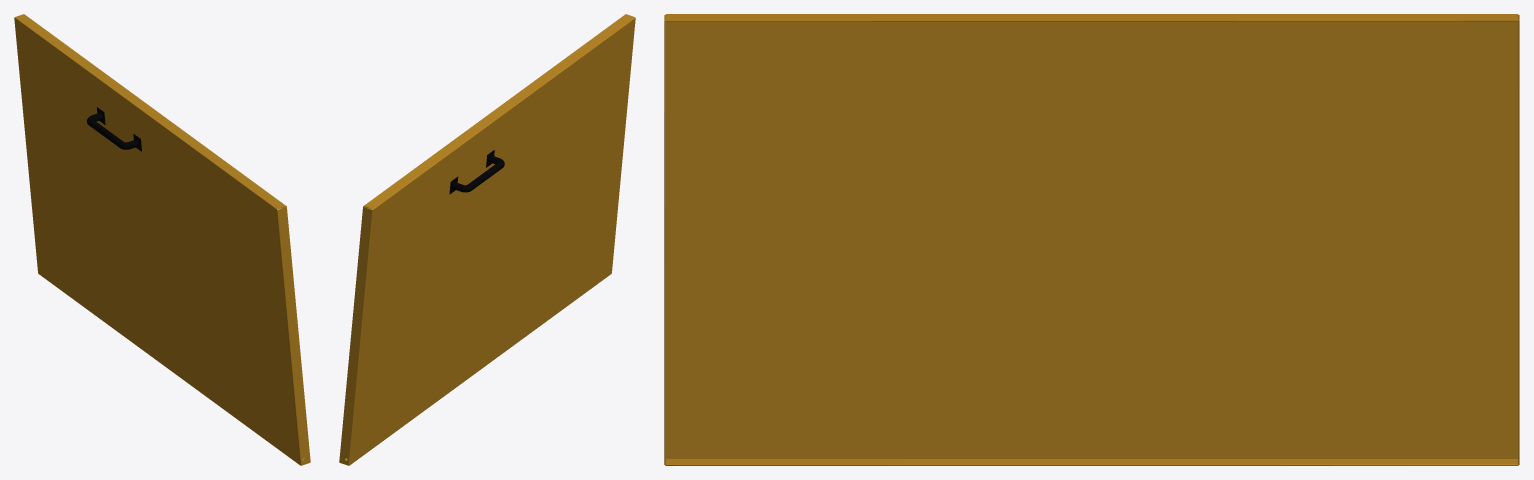
File: cupboard_door.dae
3 views of the same model, side by side, from view 1: azimuth 30°, elevation 25°; view 2: azimuth 150°, elevation 25°; view 3: azimuth 270°, elevation 25° (orthographic). The views are drawn at different scales.
Parts seen in each view (by area): view 1: node0, node1; view 2: node0, node1; view 3: node0.
Boxes of the visible parts, <box> form: node0: <box>14,14,310,465</box>; node1: <box>86,107,141,151</box>; node0: <box>339,14,635,465</box>; node1: <box>449,150,504,194</box>; node0: <box>664,14,1519,465</box>.
Size of the model in its own units: 0.1847 by 1.8 by 0.9948.
